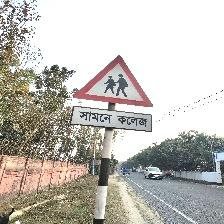College-in-front: (70, 48, 153, 134)
